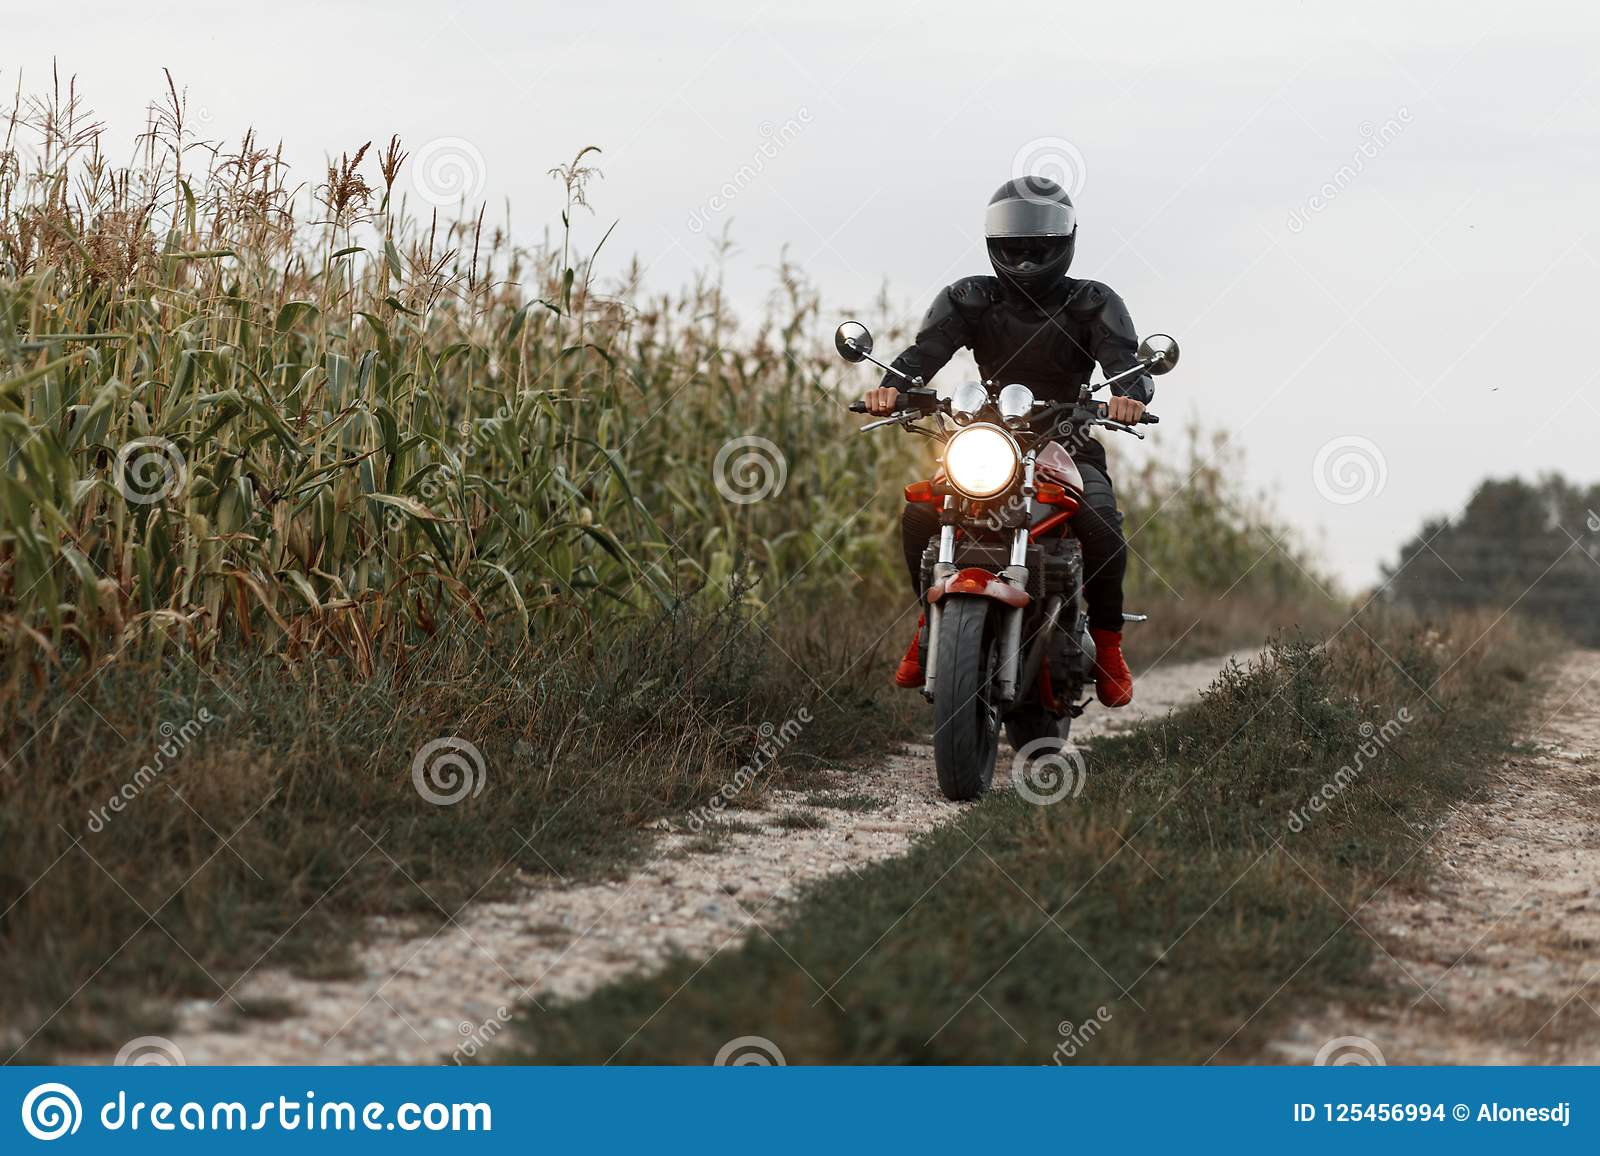helmet: (988, 183, 1075, 281)
